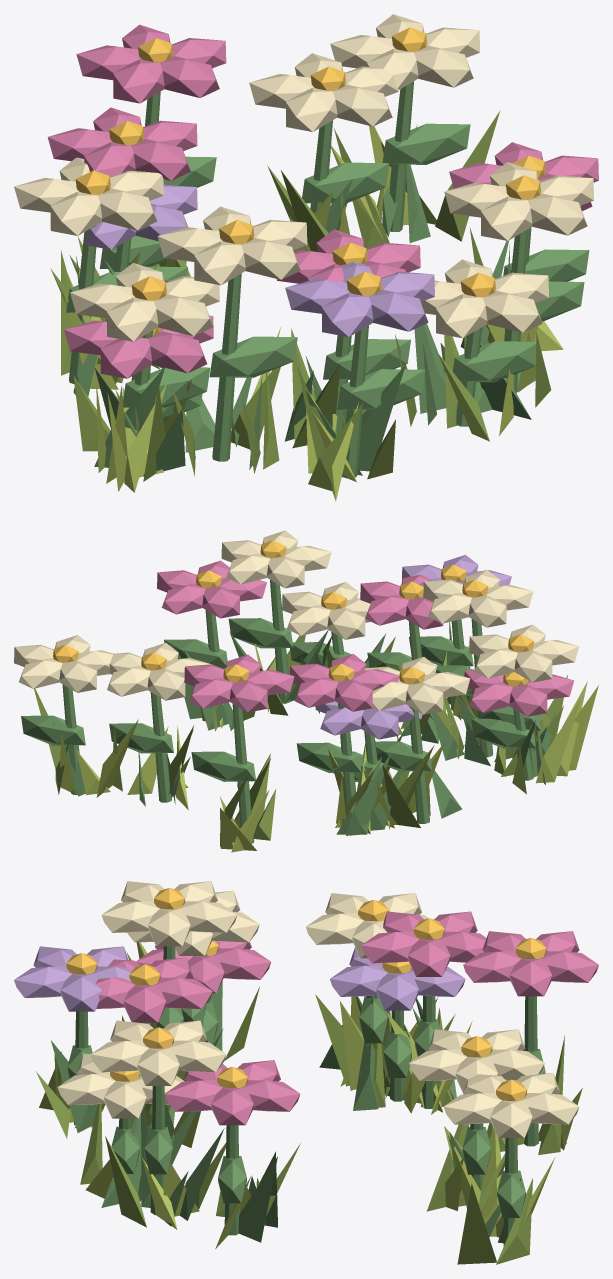
Rendered from garden_flowers.glb.
The picture shows the model from 3 angles, top to bottom: view 1: azimuth 30°, elevation 25°; view 2: azimuth 150°, elevation 25°; view 3: azimuth 270°, elevation 25°; orthographic projection. The views are drawn at different scales.
Visible parts, largest first — view 1: garden_flowers; view 2: garden_flowers; view 3: garden_flowers.
Part boxes in pixels (x1,y1,x2,y2): garden_flowers: (14, 14, 598, 501); garden_flowers: (14, 530, 598, 852); garden_flowers: (14, 881, 598, 1264).
Bounding box in the file's own units: 0.8874 × 0.3475 × 0.8653.
